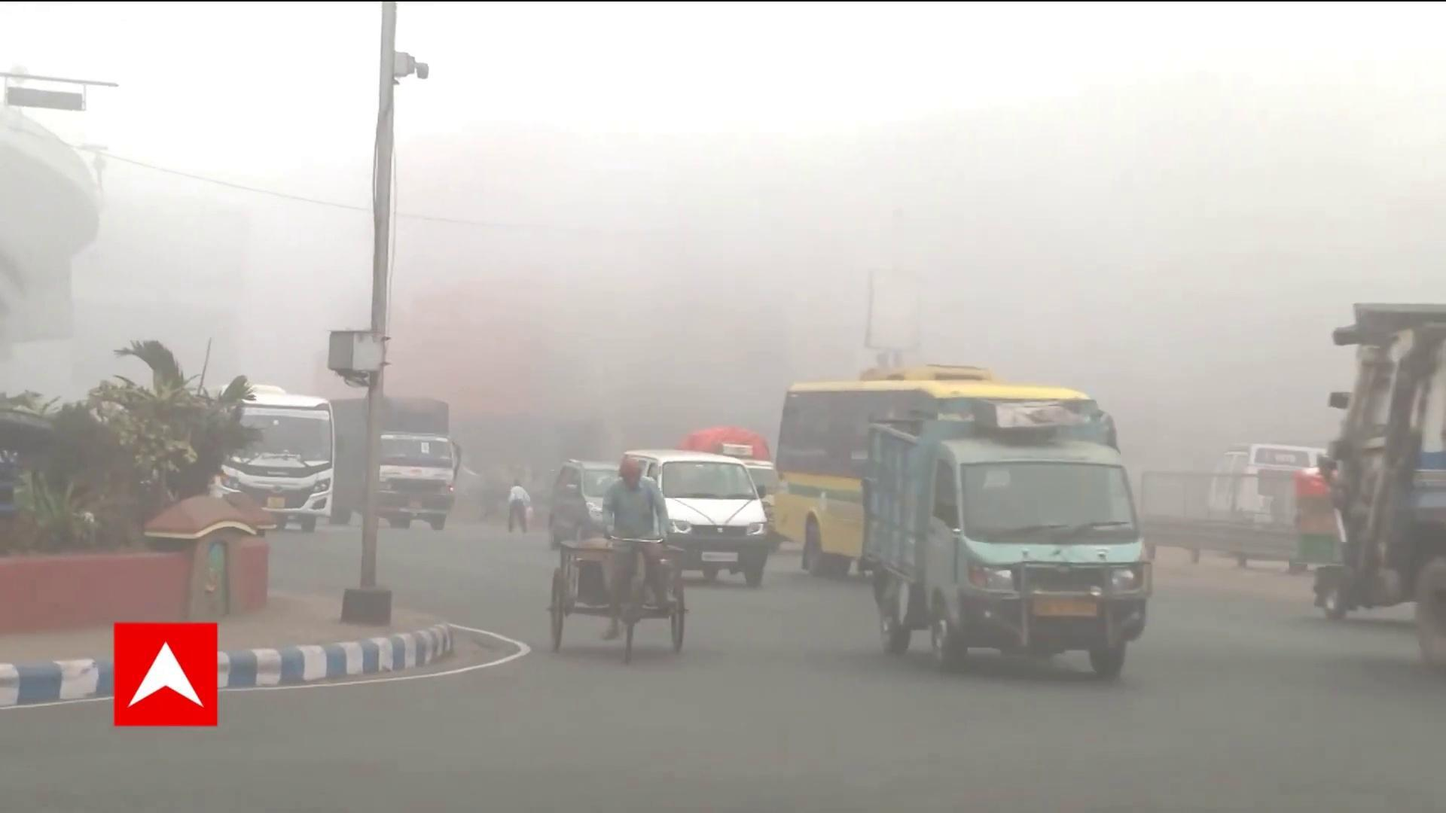Bus: (781, 370, 1118, 580), (206, 380, 342, 536)
Car: (628, 450, 773, 585)
Truck: (863, 403, 1150, 681), (345, 394, 458, 533)
